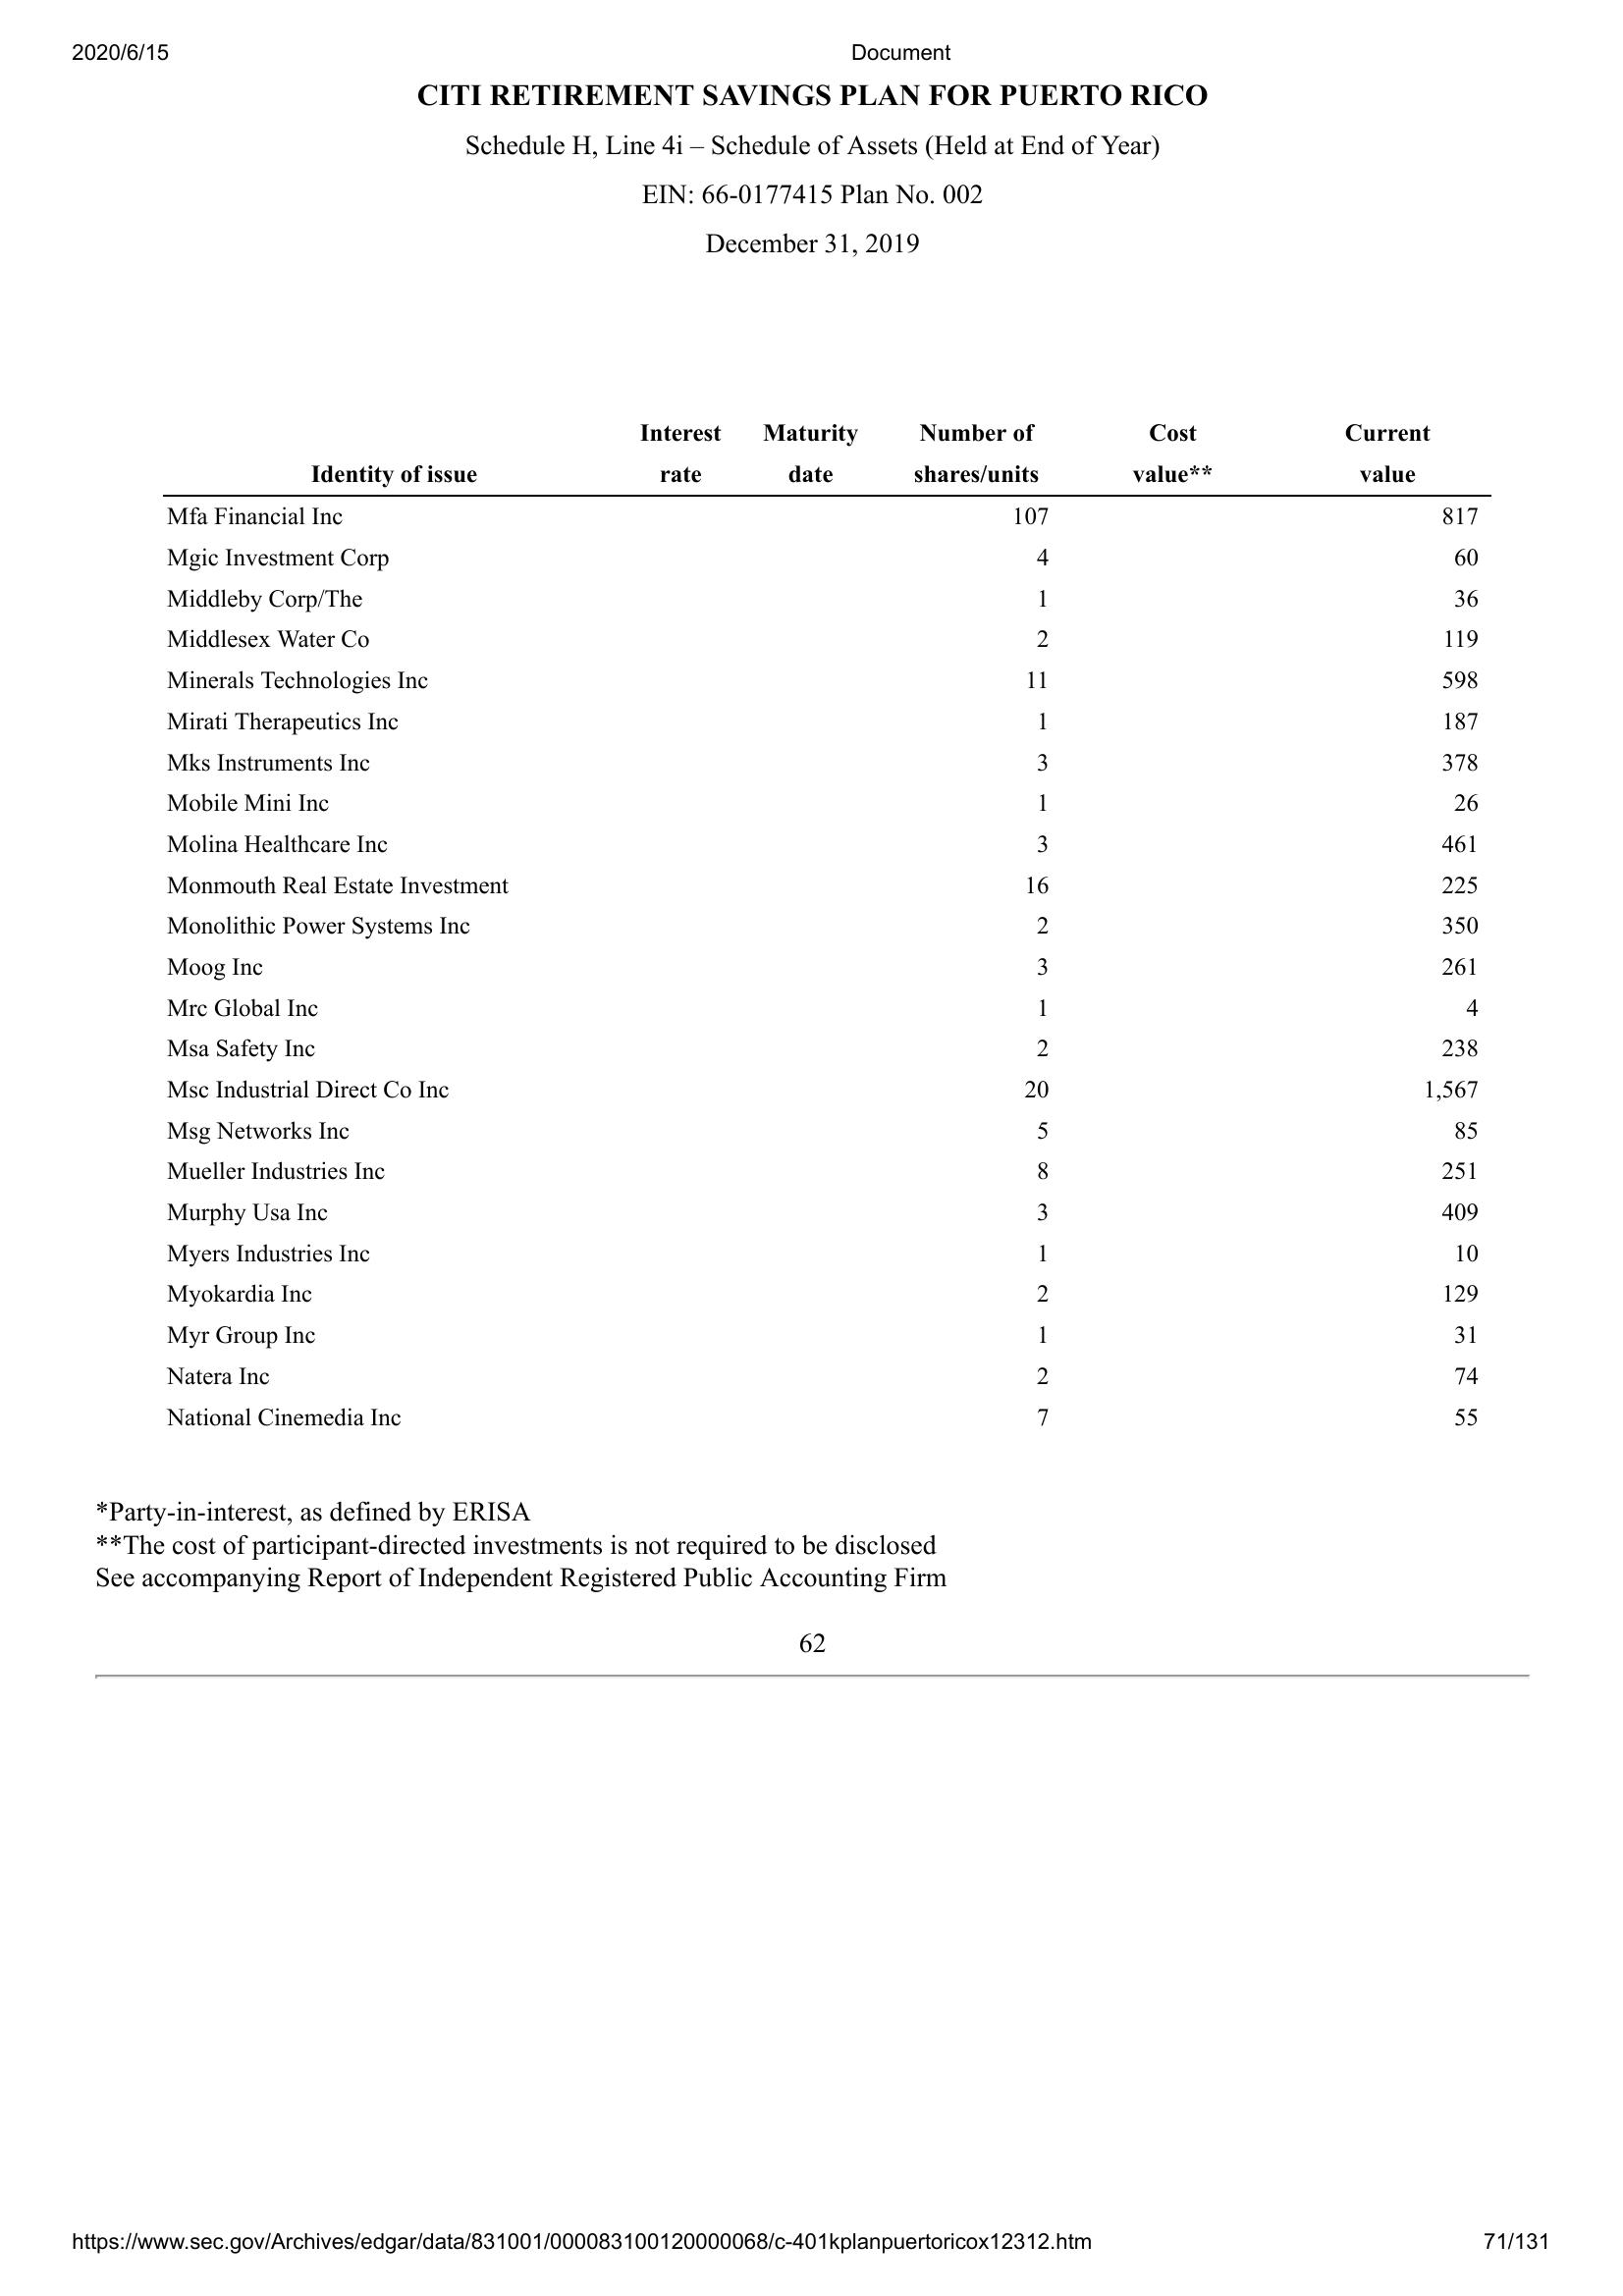table: (155, 418, 1491, 1434)
